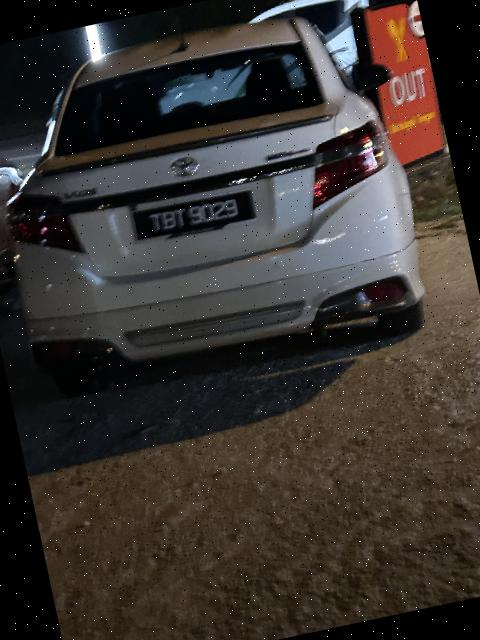License_Plate: (126, 180, 262, 249)
car: (1, 1, 439, 415)
